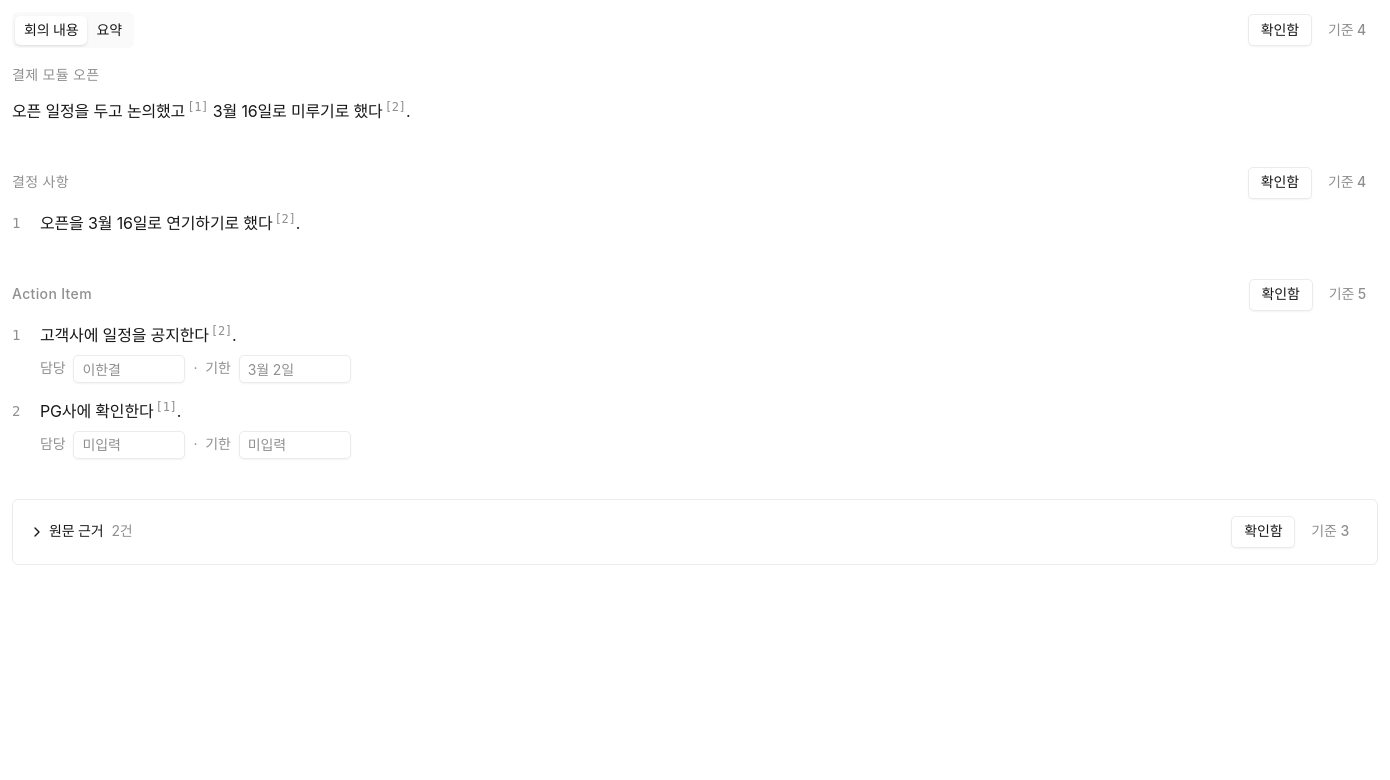
Scenario: ⛔ 네 section › 요약과 결정이 그대로 나온다
The width and height of the screenshot is (1390, 780).
Click the tab with test id "tab-summary": (109, 30) [88,16,131,44]
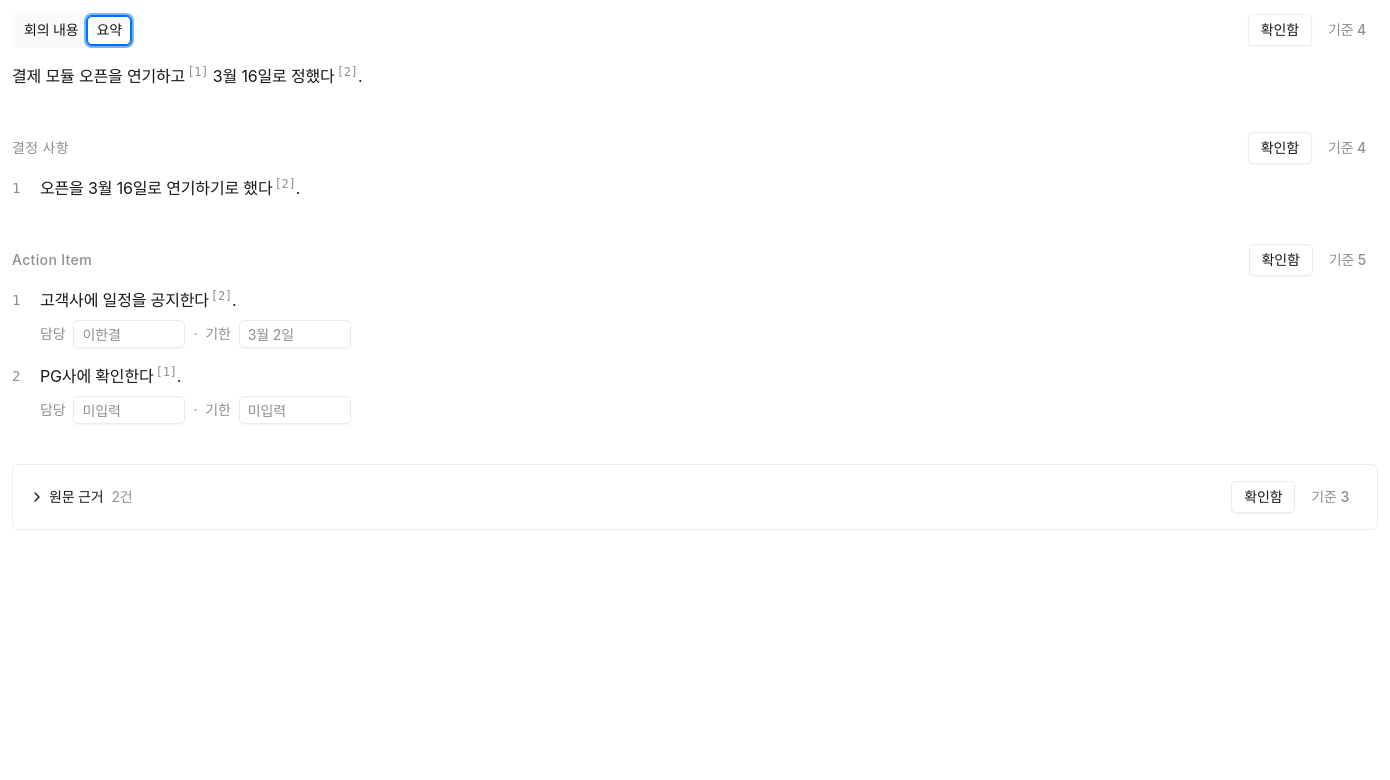
Expected: the text "오픈을 3월 16일로 연기하기로 했다" is shown, [40,178,272,198]
Expected: the text "결제 모듈 오픈을 연기하고" is shown, [12,66,185,86]
